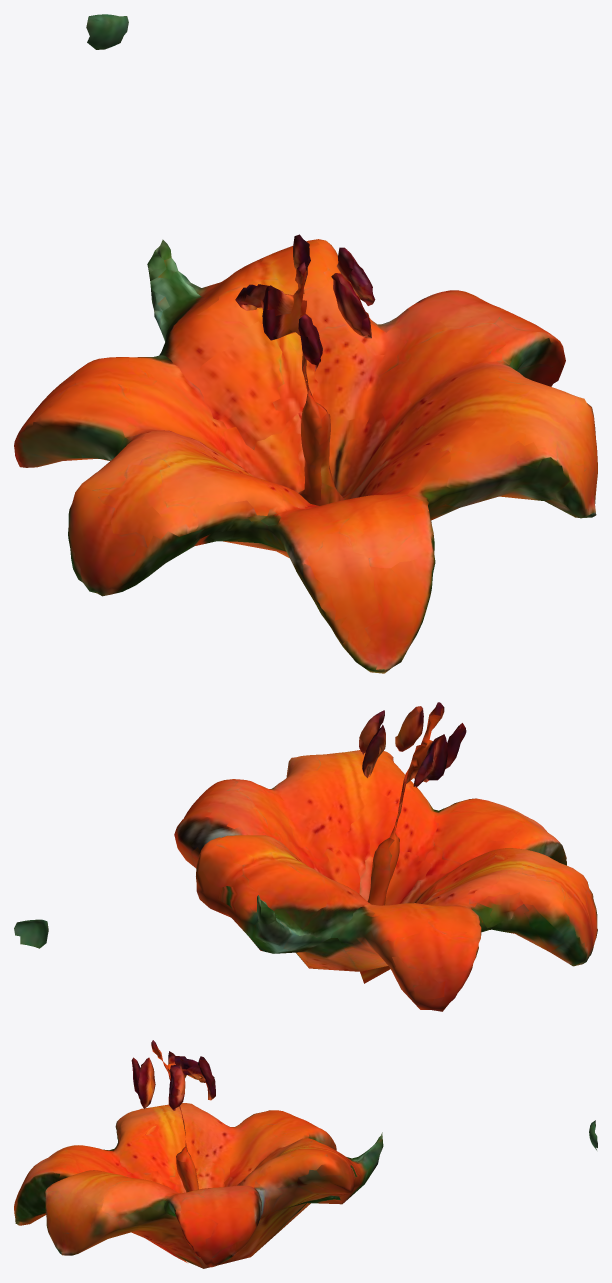
3 views of the same model, one above another, from view 1: azimuth 30°, elevation 25°; view 2: azimuth 150°, elevation 25°; view 3: azimuth 270°, elevation 25° (orthographic). The views are drawn at different scales.
Parts seen in each view (by area): view 1: 4523adcd; view 2: 4523adcd; view 3: 4523adcd.
Boxes of the visible parts, bbox=[...] form: 4523adcd: bbox=[14, 14, 597, 673]; 4523adcd: bbox=[14, 702, 597, 1011]; 4523adcd: bbox=[14, 1040, 597, 1268].
Bounding box in the file's own units: 0.1215 × 0.0783 × 0.2026.
1 material, 1 textured.
